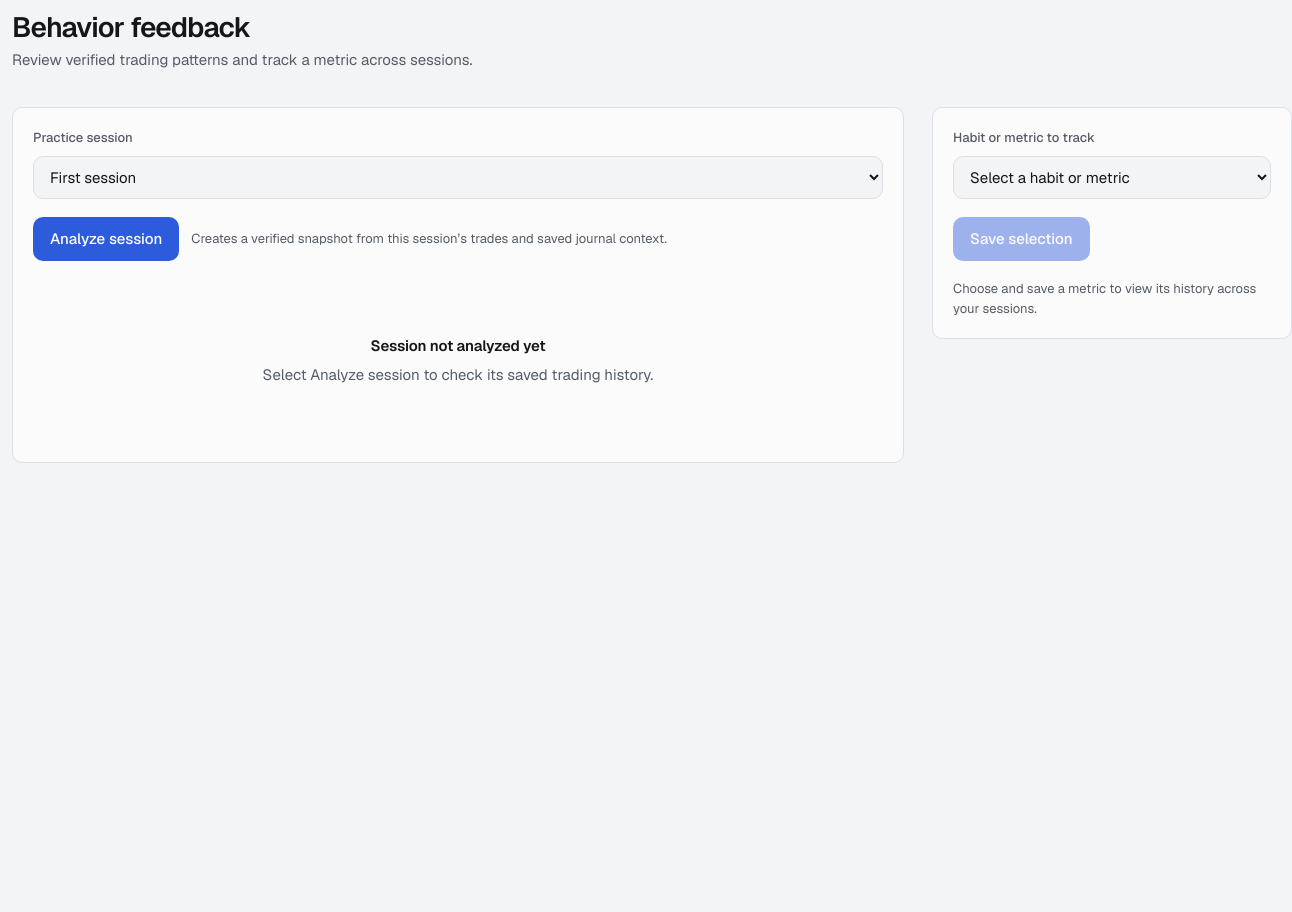
feedback workflow › prevents duplicate analysis requests and reports a failed refresh
This screenshot has width=1292, height=912.
Expected: the heading "Session not analyzed yet" is shown, [370,336,546,355]
Double-click the button "Analyze session" at (106, 239), box [33,217,179,261]
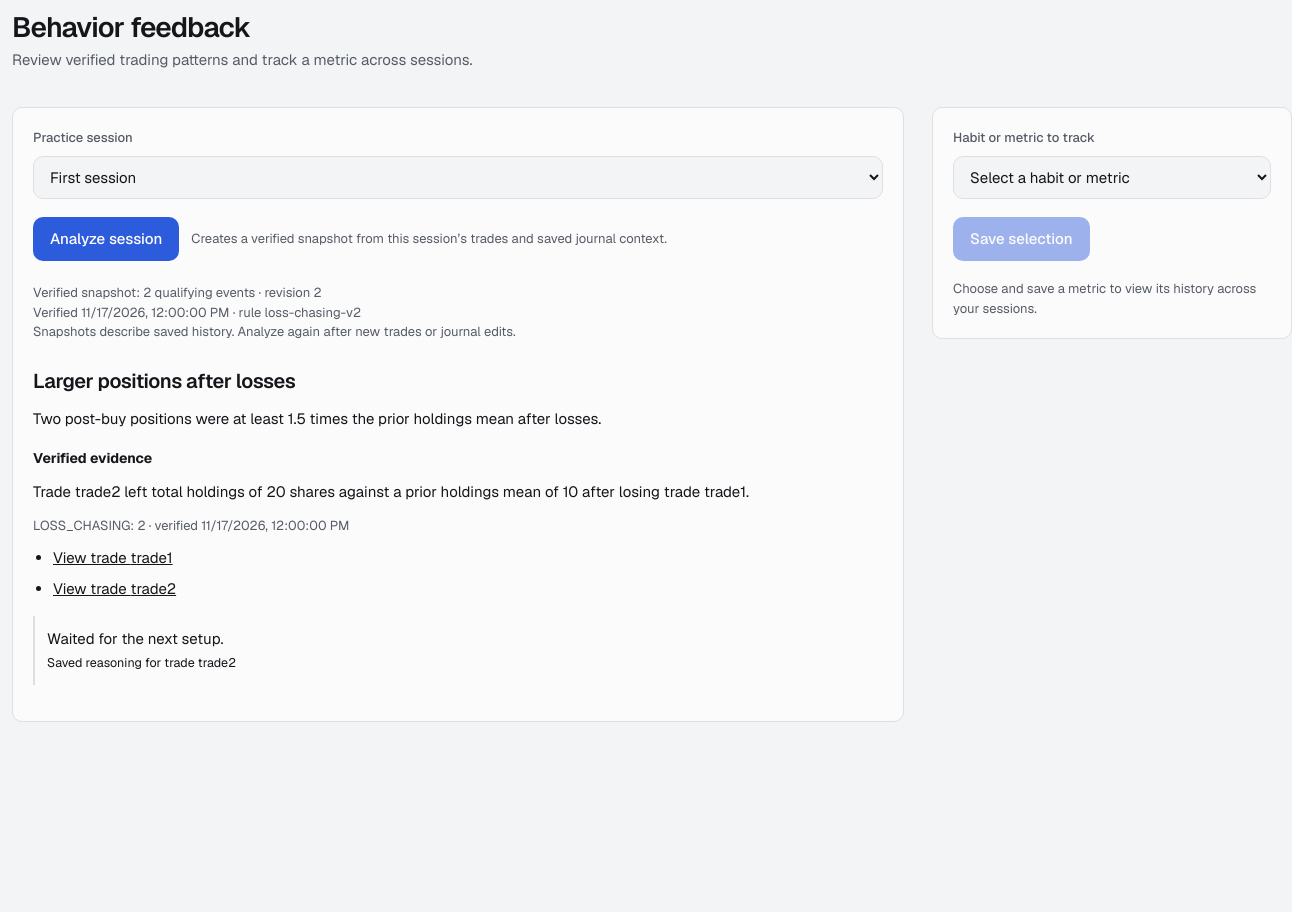
Click the button "Analyze session" at (106, 239), box [33,217,179,261]
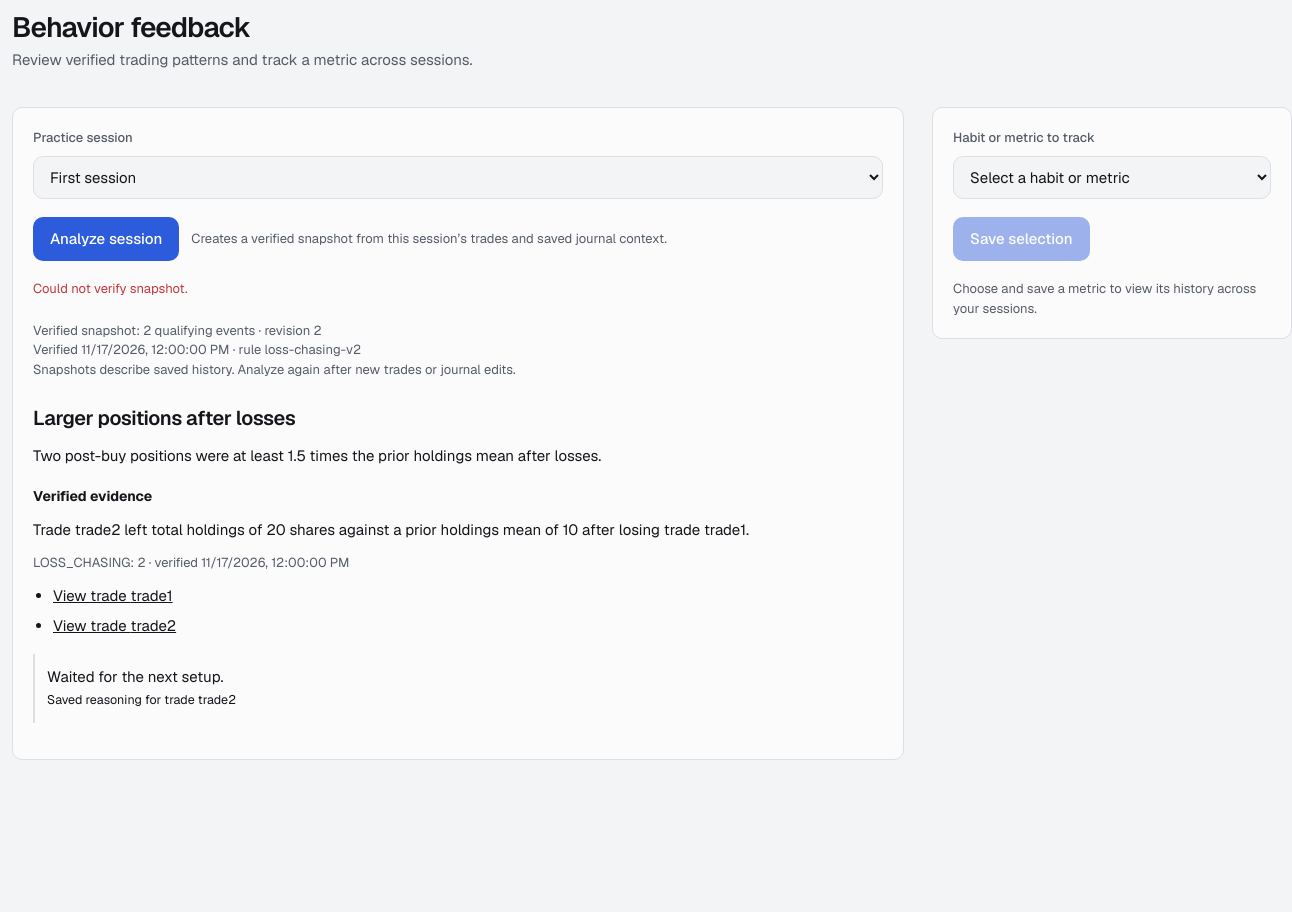
Result: the text "Could not verify snapshot." is shown at [33,280,188,297]
